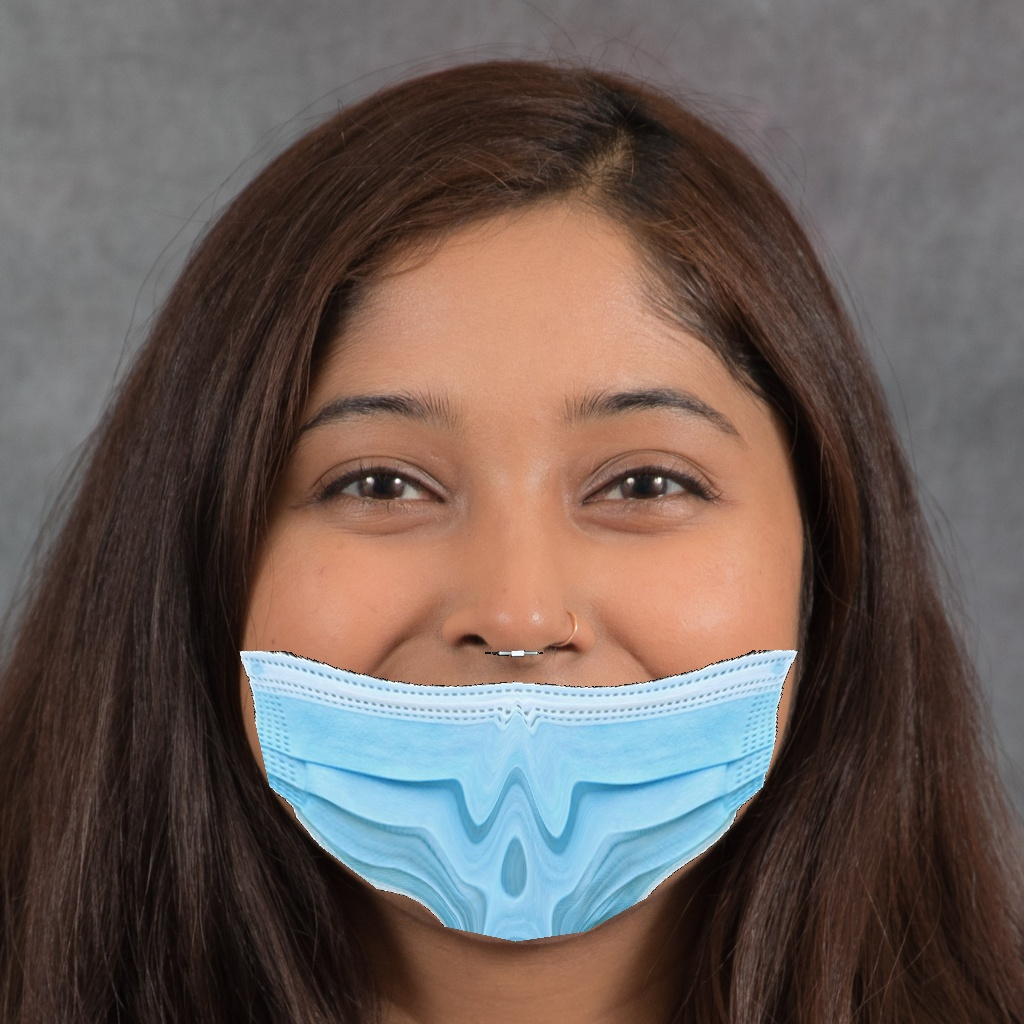mascarilla_mal_puesta: (192, 368, 767, 953)
